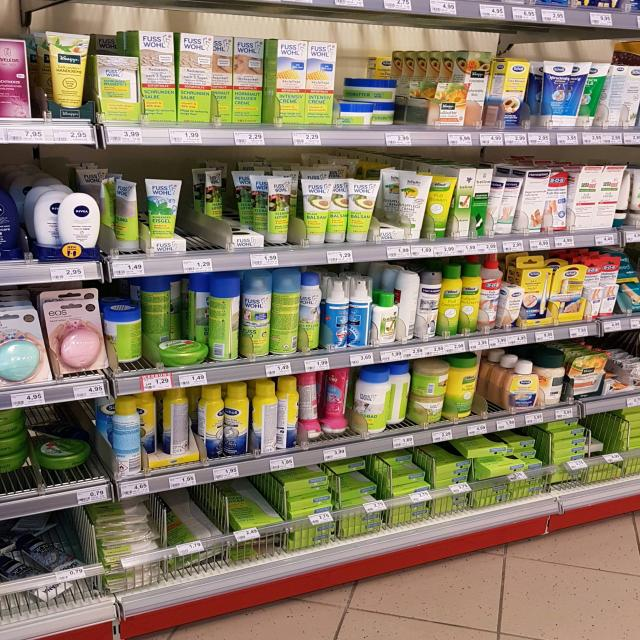empty: (182, 185, 227, 251)
